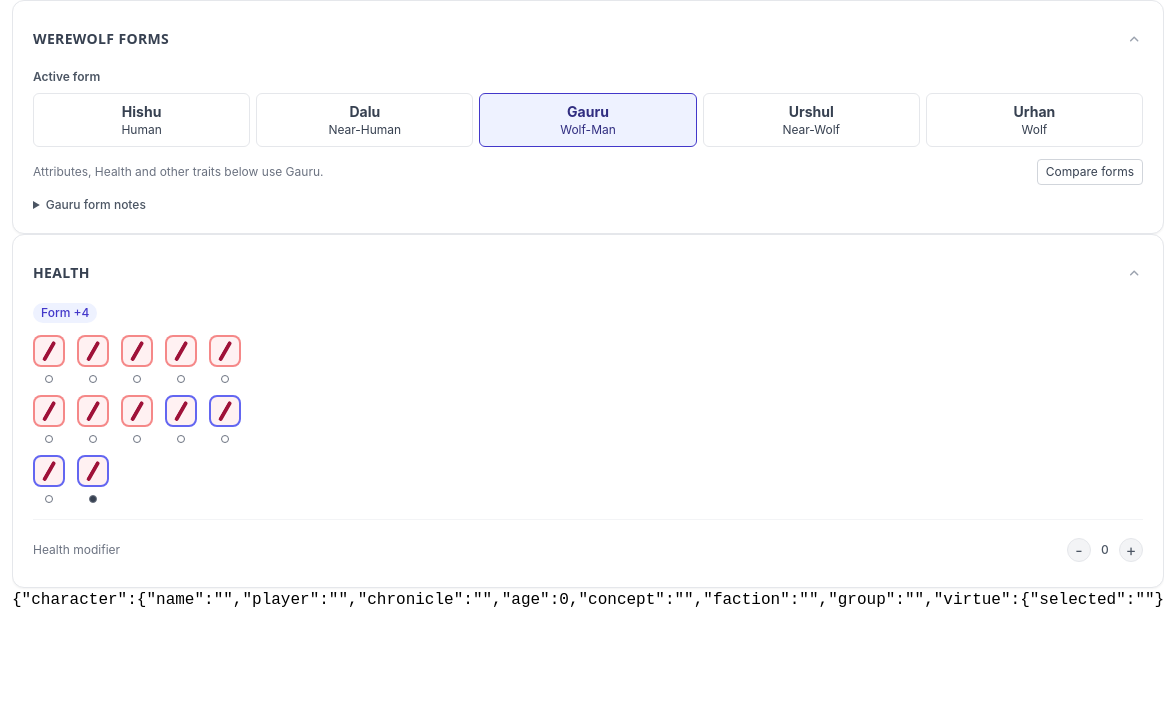
Werewolf 1e forms › preserves wounds and resistant marks when returning to lower Health
This screenshot has width=1176, height=720.
Click the radio button labelled "Hishu Human" at (142, 120), box [33,93,250,147]
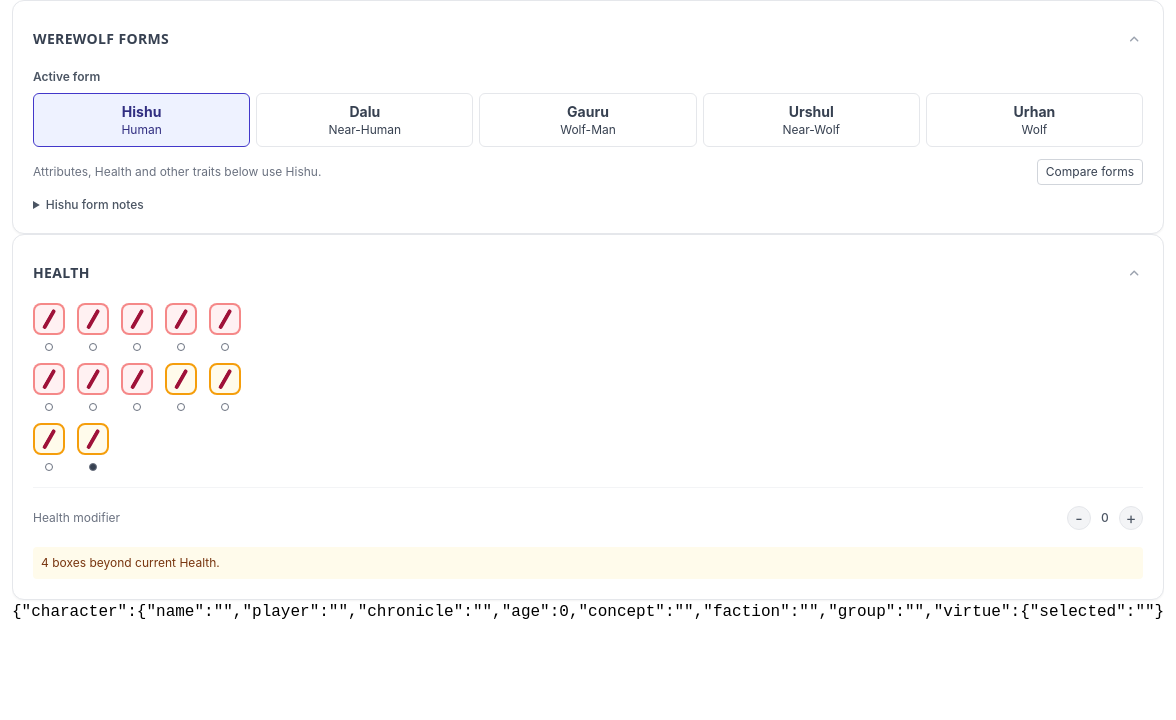
Expected: the number of buttons named "Overflow damage box" is 4, [165,363,197,395]; [209,363,241,395]; [33,423,65,455]; [77,423,109,455]
Now the message reads "4 boxes beyond current Health.", box [33,547,1143,579]
Click the radio button labelled "Gauru Wolf-Man" at (588, 120), box [479,93,697,147]
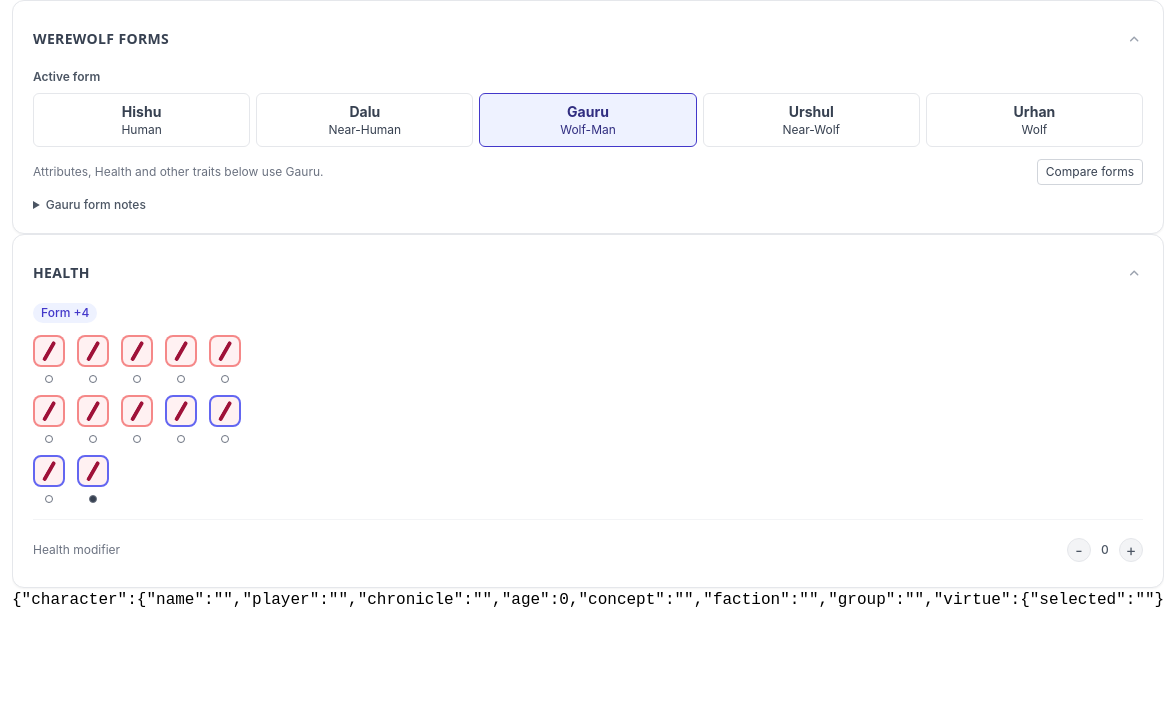
Now the message "4 boxes beyond current Health." is gone
